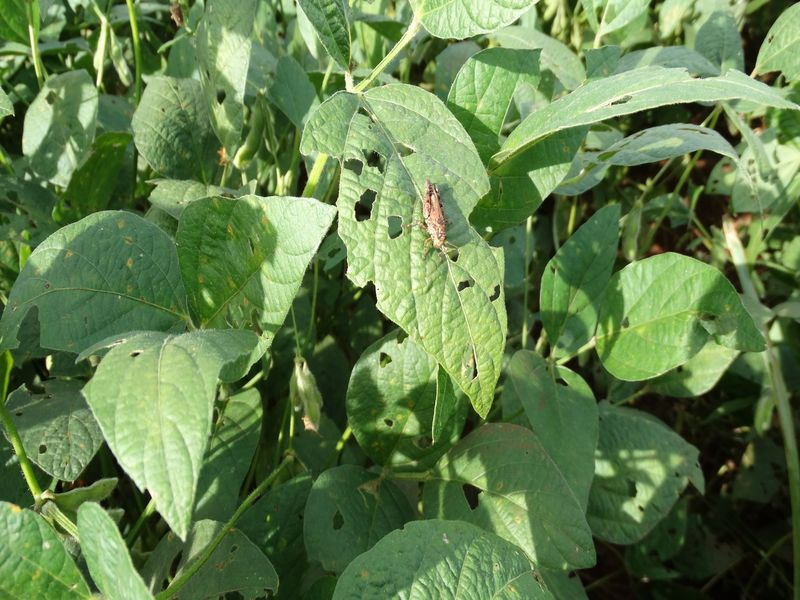Rhammatocerus_schistocercoides: (400, 171, 470, 264)
